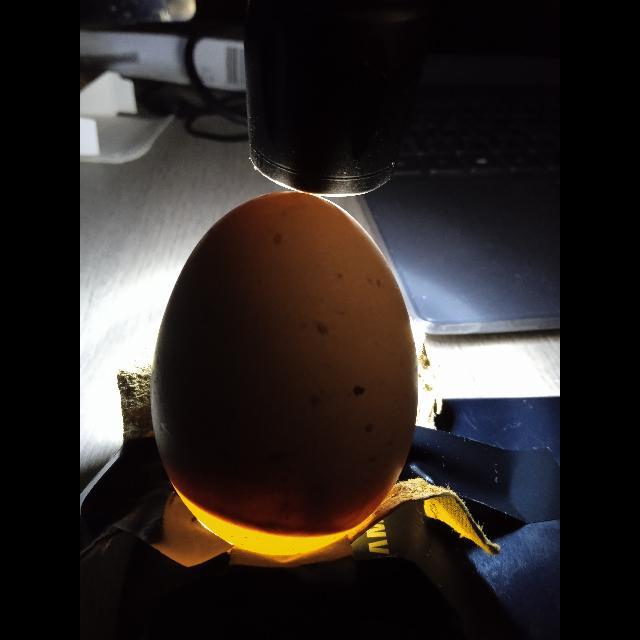Fertile: (154, 190, 418, 558)
